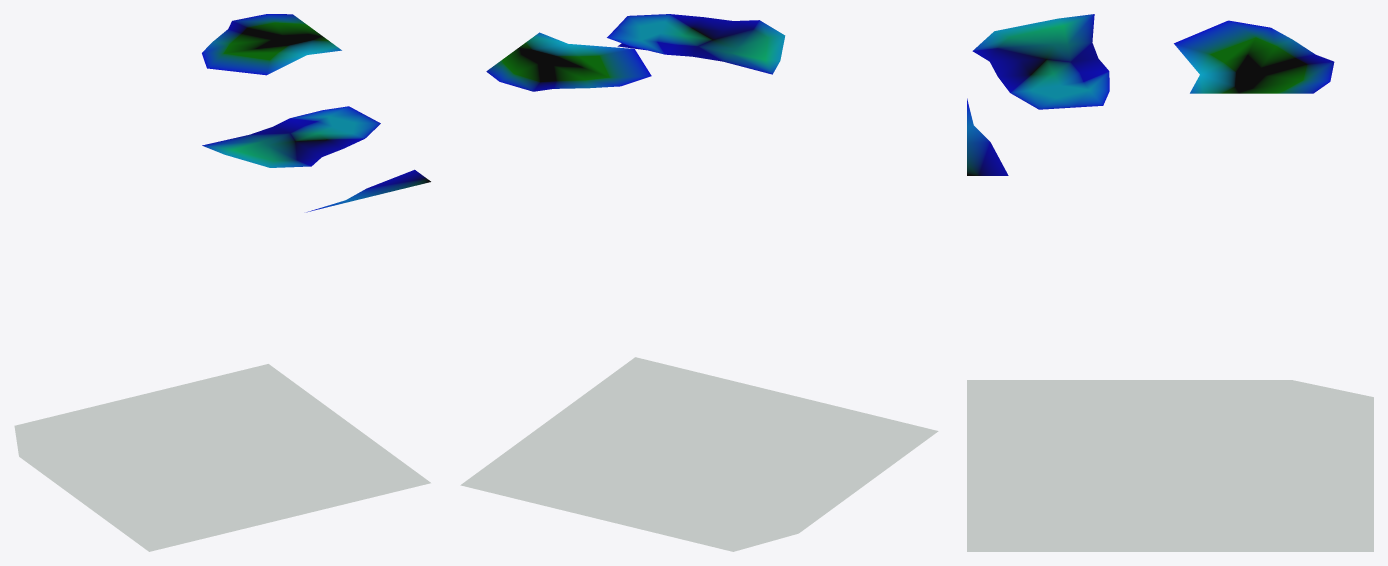
3 renders of one model, left to right at view 1: azimuth 30°, elevation 25°; view 2: azimuth 150°, elevation 25°; view 3: azimuth 270°, elevation 25°, orthographic. The views are drawn at different scales.
Visible parts, largest first — view 1: G:\FFXIV-MapTools\exports\w1f5\bg\ffxiv\wil_w1\fld\w1f5\bgpl (×2); view 2: G:\FFXIV-MapTools\exports\w1f5\bg\ffxiv\wil_w1\fld\w1f5\bgpl (×2); view 3: G:\FFXIV-MapTools\exports\w1f5\bg\ffxiv\wil_w1\fld\w1f5\bgpl (×2).
Boxes of the visible parts, <box> form: G:\FFXIV-MapTools\exports\w1f5\bg\ffxiv\wil_w1\fld\w1f5\bgpl (×2): <box>14,14,430,551</box>; G:\FFXIV-MapTools\exports\w1f5\bg\ffxiv\wil_w1\fld\w1f5\bgpl (×2): <box>460,14,938,551</box>; G:\FFXIV-MapTools\exports\w1f5\bg\ffxiv\wil_w1\fld\w1f5\bgpl (×2): <box>967,14,1373,551</box>.
Size of the model in its own units: 128 by 159 by 128.
